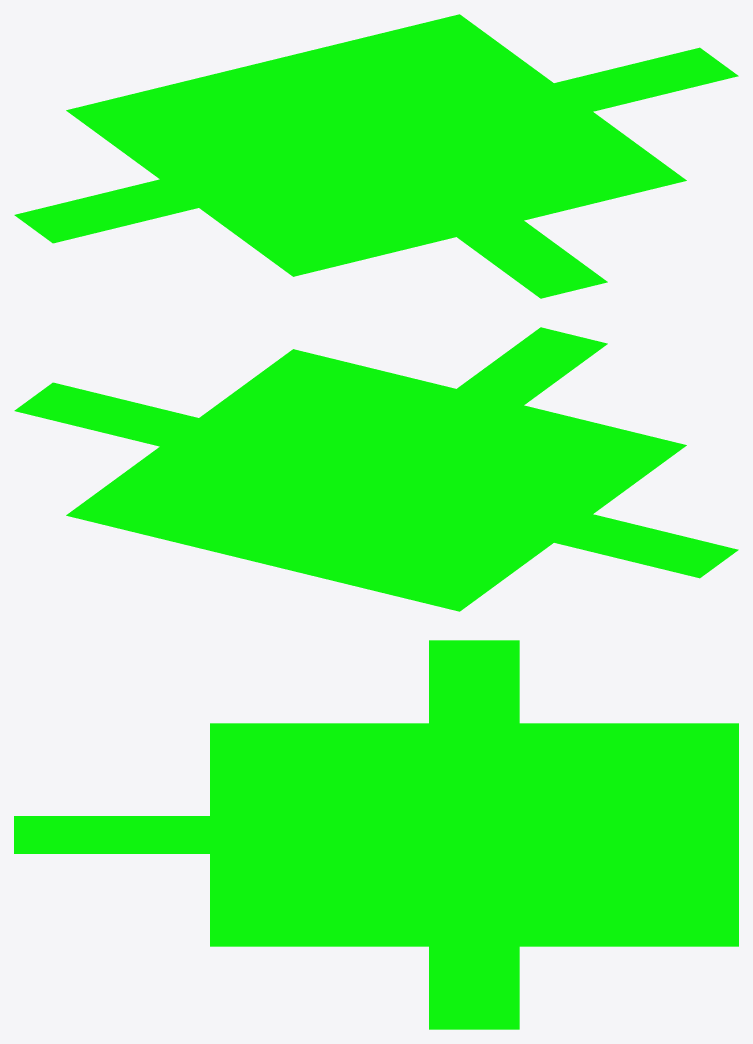
Rendered from s07b_td2-floor.glb.
The picture shows the model from 3 angles, top to bottom: view 1: azimuth 30°, elevation 25°; view 2: azimuth 150°, elevation 25°; view 3: azimuth 270°, elevation 25°; orthographic projection. The views are drawn at different scales.
Visible parts, largest first — view 1: collision_floor-colonly; view 2: collision_floor-colonly; view 3: collision_floor-colonly.
Part boxes in pixels (bbox=[...]): collision_floor-colonly: bbox=[14, 14, 738, 298]; collision_floor-colonly: bbox=[14, 327, 738, 611]; collision_floor-colonly: bbox=[14, 640, 738, 1029].
Size of the model in its own units: 60.93 by 0 by 47.96.
